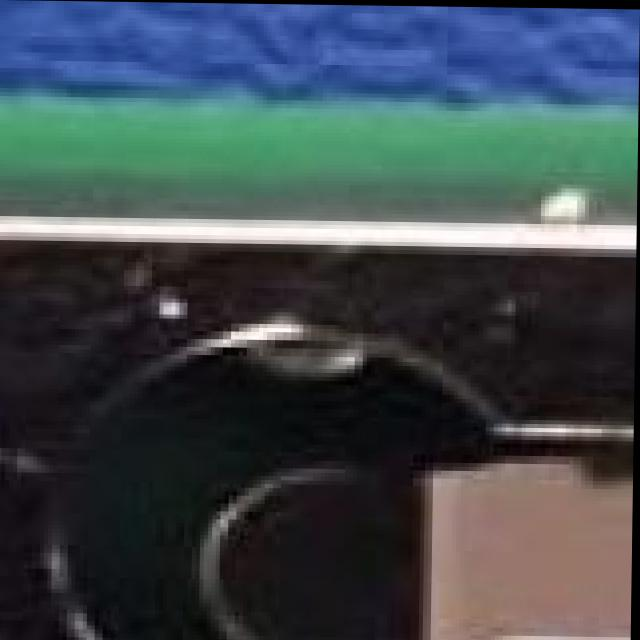battery: (0, 220, 637, 640)
